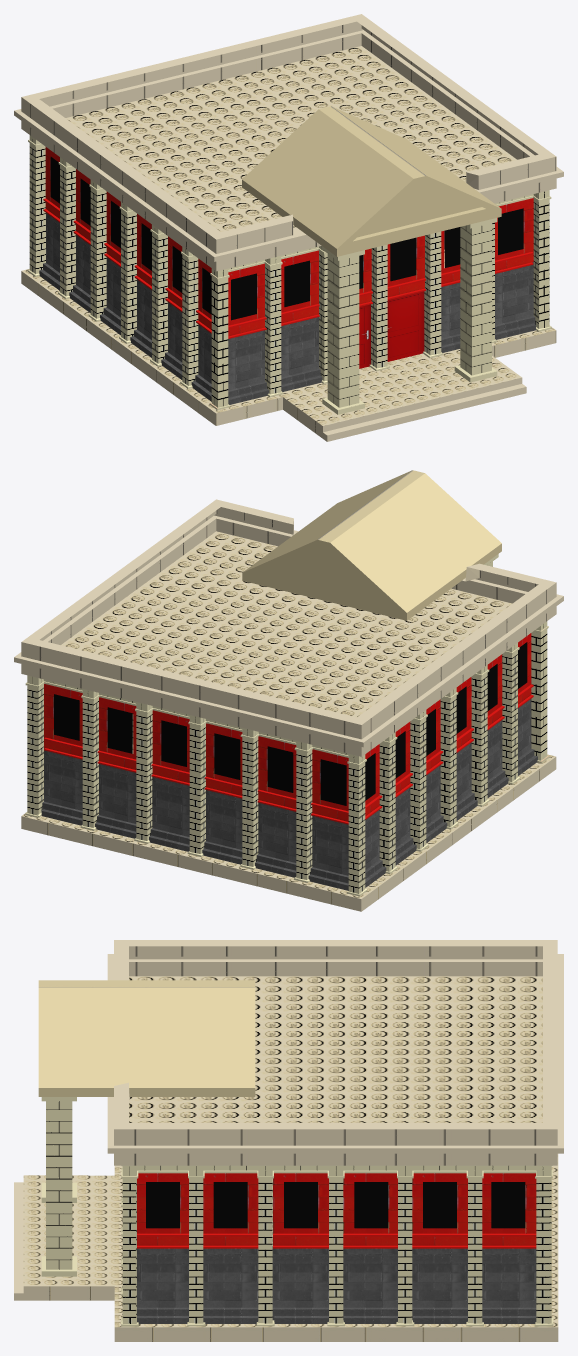
Rendered from CityHall.FBX.
The picture shows the model from 3 angles, top to bottom: view 1: azimuth 30°, elevation 25°; view 2: azimuth 150°, elevation 25°; view 3: azimuth 270°, elevation 25°; orthographic projection. The views are drawn at different scales.
Visible parts, largest first — view 1: Box014, Box015, Box018, Box016, Box019, Plane049, Plane074, Plane072, Box013, Plane022, Box006, Box032 (+33 smaller); view 2: Box014, Box015, Box018, Box032, Plane074, Plane072, Plane073, Plane081, Box021, Box020, Box023, Box022 (+34 smaller); view 3: Box014, Box015, Box018, Box019, Box024, Plane078, Plane076, Plane079, Plane075, Plane077, Plane080, Box035 (+17 smaller).
Part boxes in pixels (left/top/right/bottom): Box014: left=14, top=14, right=563, bottom=271; Box015: left=242, top=106, right=501, bottom=256; Box018: left=21, top=259, right=556, bottom=441; Box016: left=322, top=246, right=364, bottom=414; Box019: left=454, top=218, right=497, bottom=382; Plane049: left=359, top=291, right=424, bottom=368; Plane074: left=495, top=262, right=535, bottom=339; Plane072: left=281, top=317, right=322, bottom=391; Box013: left=209, top=268, right=230, bottom=410; Plane022: left=228, top=330, right=268, bottom=404; Box006: left=228, top=256, right=283, bottom=397; Box032: left=27, top=135, right=45, bottom=276; Box014: left=14, top=499, right=563, bottom=756; Box015: left=242, top=470, right=501, bottom=620; Box018: left=21, top=744, right=556, bottom=911; Box032: left=25, top=675, right=367, bottom=896; Plane074: left=41, top=748, right=82, bottom=825; Plane072: left=255, top=802, right=296, bottom=877; Plane073: left=95, top=764, right=136, bottom=838; Plane081: left=149, top=777, right=189, bottom=851; Box021: left=187, top=715, right=242, bottom=856; Box020: left=240, top=728, right=296, bottom=869; Box023: left=80, top=689, right=136, bottom=830; Box022: left=134, top=702, right=189, bottom=843; Box014: left=107, top=940, right=563, bottom=1165; Box015: left=38, top=980, right=255, bottom=1096; Box018: left=14, top=1154, right=558, bottom=1341; Box019: left=41, top=1097, right=76, bottom=1276; Box024: left=121, top=1165, right=551, bottom=1326; Plane078: left=272, top=1246, right=328, bottom=1323; Plane076: left=412, top=1248, right=467, bottom=1323; Plane079: left=203, top=1248, right=258, bottom=1323; Plane075: left=482, top=1248, right=536, bottom=1323; Plane077: left=343, top=1248, right=397, bottom=1323; Plane080: left=137, top=1248, right=188, bottom=1323; Box035: left=272, top=1165, right=344, bottom=1326.
Size of the model in its own units: 43.72 by 27.66 by 52.28.
